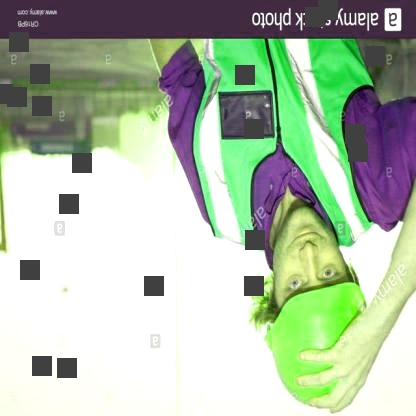vest: (192, 40, 382, 252)
yellow: (259, 279, 379, 412)
